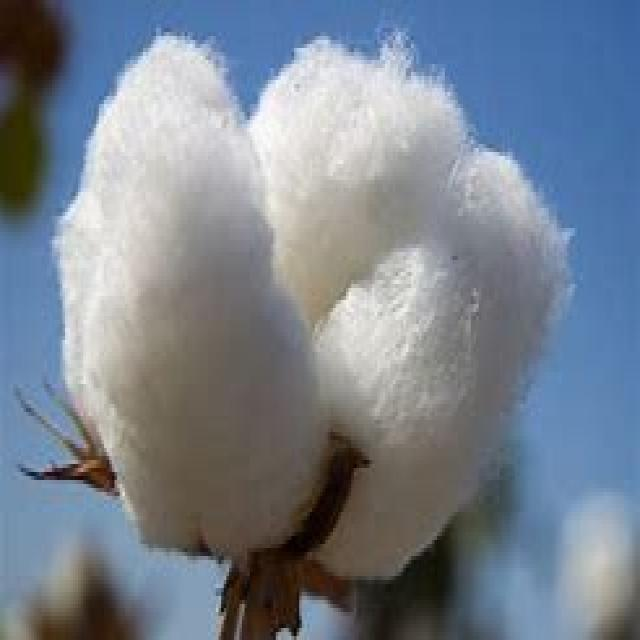Matured Cotton Boll: (44, 22, 574, 598)
